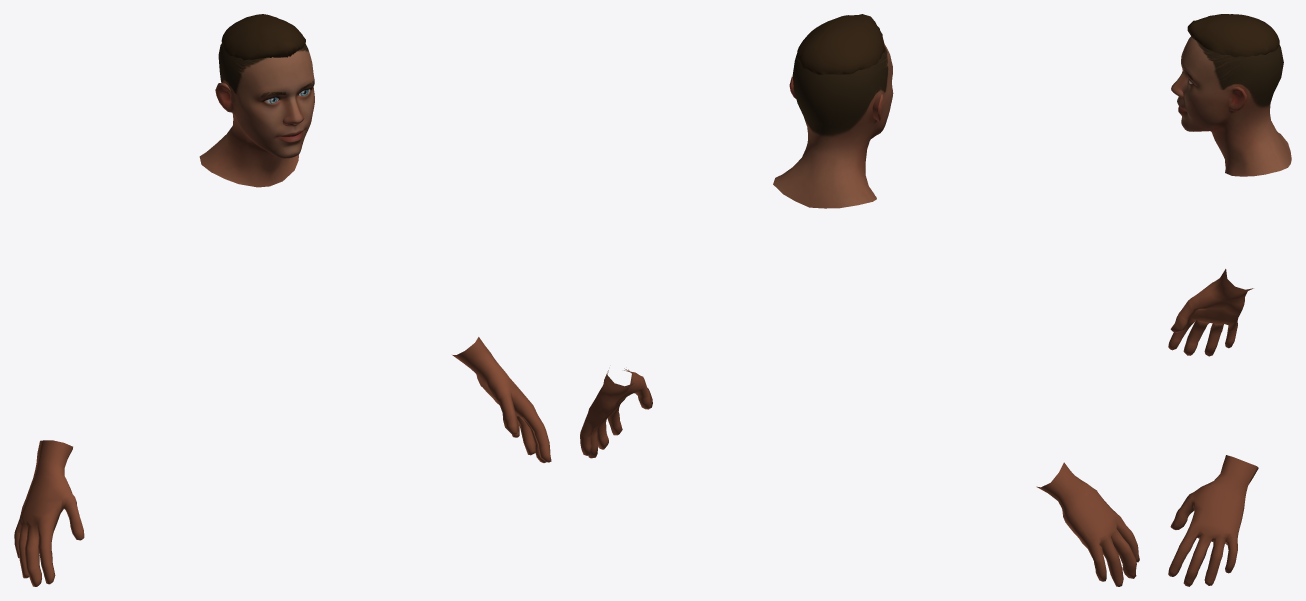
The model's file is headbody3.glb.
The picture shows the model from 3 angles, left to right: view 1: azimuth 30°, elevation 25°; view 2: azimuth 150°, elevation 25°; view 3: azimuth 270°, elevation 25°; orthographic projection. The views are drawn at different scales.
Parts seen in each view (by area): view 1: Wolf3D_Head, Wolf3D_Body, Wolf3D_Hair; view 2: Wolf3D_Head, Wolf3D_Body, Wolf3D_Hair; view 3: Wolf3D_Head, Wolf3D_Body, Wolf3D_Hair.
Boxes of the visible parts, x1,y1,x2,y2 form: Wolf3D_Head: (199,43,314,187); Wolf3D_Body: (14,337,551,586); Wolf3D_Hair: (221,14,305,60); Wolf3D_Head: (773,44,893,208); Wolf3D_Body: (580,368,1139,586); Wolf3D_Hair: (796,14,884,74); Wolf3D_Head: (1171,36,1291,176); Wolf3D_Body: (1168,269,1258,586); Wolf3D_Hair: (1187,14,1279,57).
Size of the model in its own units: 1.06 by 0.9511 by 0.2352.
5 materials, 5 textured.
